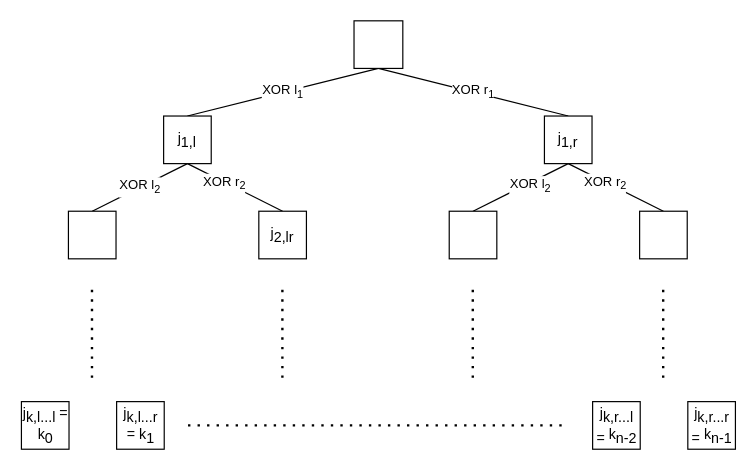
This 756x470 diagram has some shape labels left out. Each missing label, with the box of its shape:
j 0: (353, 20, 403, 68)
j 2,ll: (67, 210, 116, 259)
j 2,rl: (448, 210, 497, 259)
j 2,rr: (638, 210, 687, 259)
